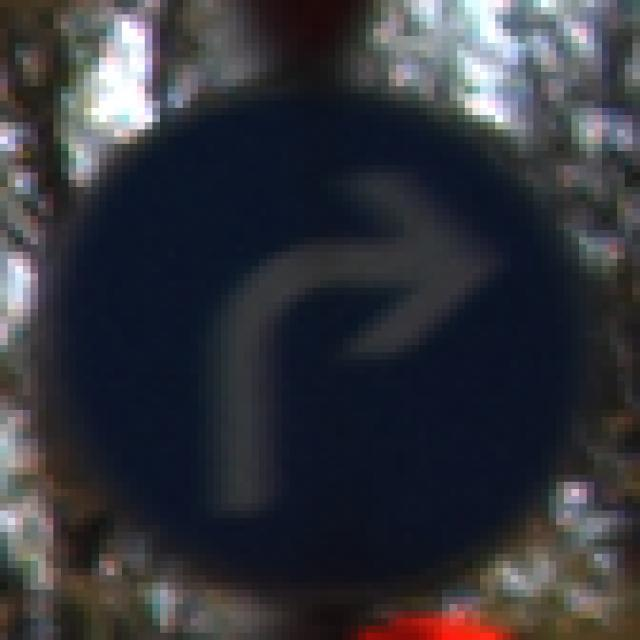compulsary turn right ahead: (24, 72, 596, 617)
